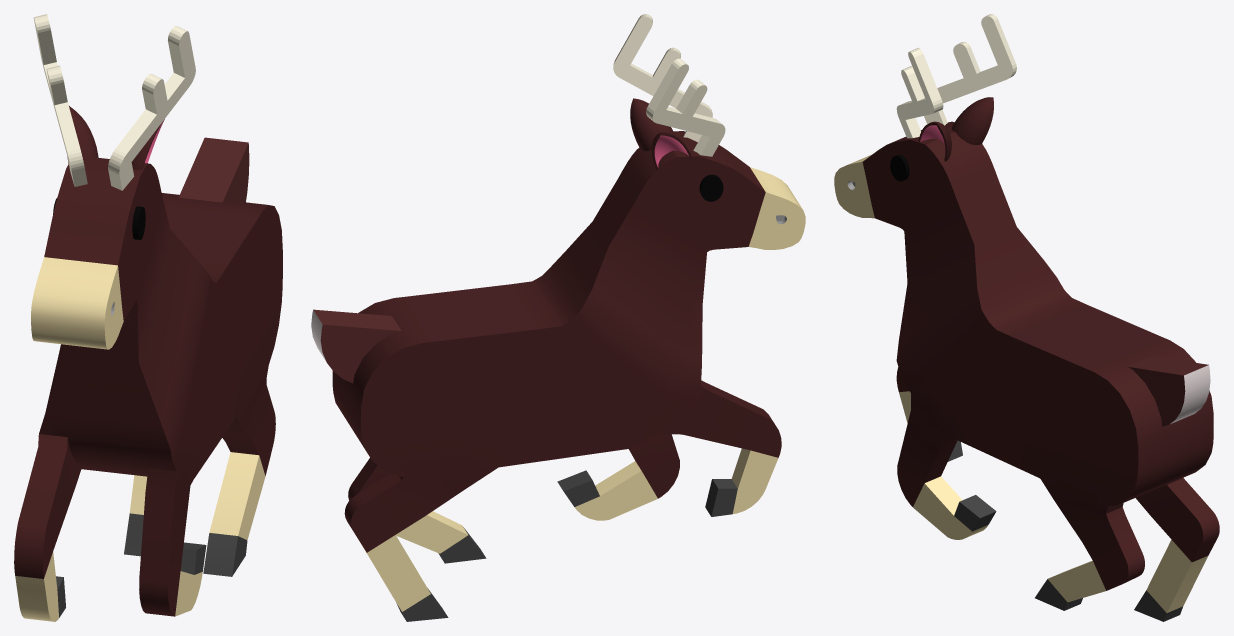
Rendered from deer.gltf.
3 renders of one model, left to right at view 1: azimuth 30°, elevation 25°; view 2: azimuth 150°, elevation 25°; view 3: azimuth 270°, elevation 25°, orthographic. The views are drawn at different scales.
Parts seen in each view (by area): view 1: Plane.115, Circle.1883; view 2: Plane.115; view 3: Plane.115.
Part boxes in pixels (x1=…): Plane.115: x1=14, y1=14, x2=282, y2=621; Circle.1883: x1=53, y1=198, x2=145, y2=239; Plane.115: x1=311, y1=14, x2=805, y2=621; Plane.115: x1=834, y1=14, x2=1219, y2=621.
Size of the model in its own units: 1.63 by 2.45 by 1.65.
Materials: 1 (1 with a texture image).
